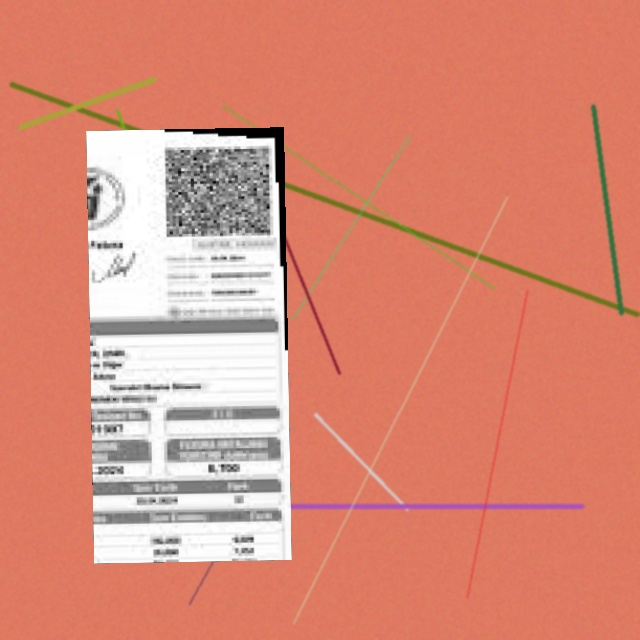electricity-bill: (85, 126, 291, 563)
